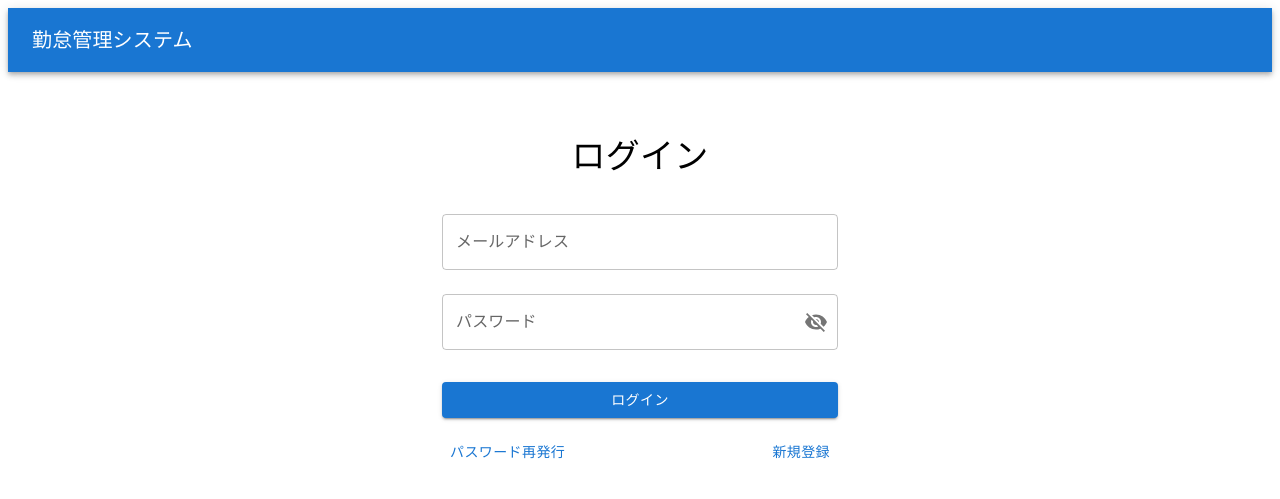
Test: ログインコンポーネントのテスト › ログイン時にネットワークエラーが発生した場合、エラーメッセージが表示される
Type "user@example.com" into the field labelled "メールアドレス" at {"x": 640, "y": 242}, box [442,214,838,270]
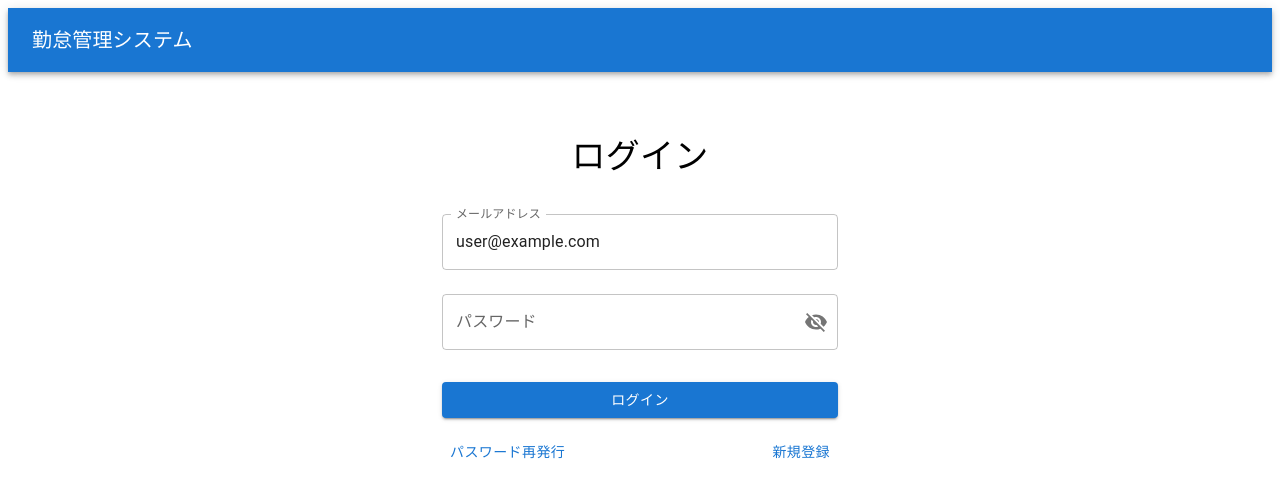
Type "password" into the password field labelled "パスワード" at {"x": 615, "y": 322}, box [442,294,788,350]
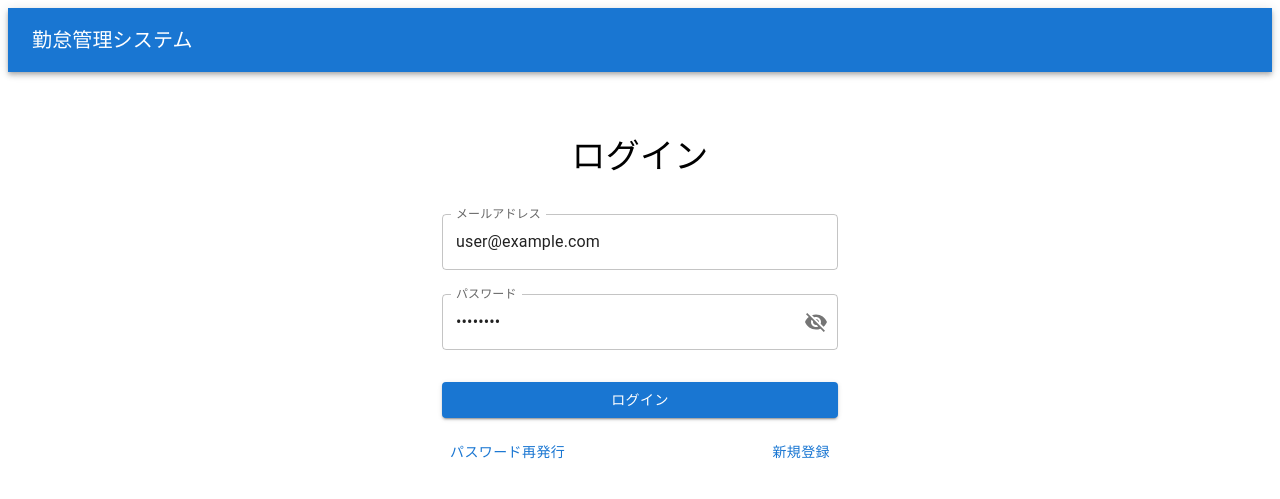
Click the button "ログイン" at {"x": 640, "y": 400}, box [442,382,838,418]
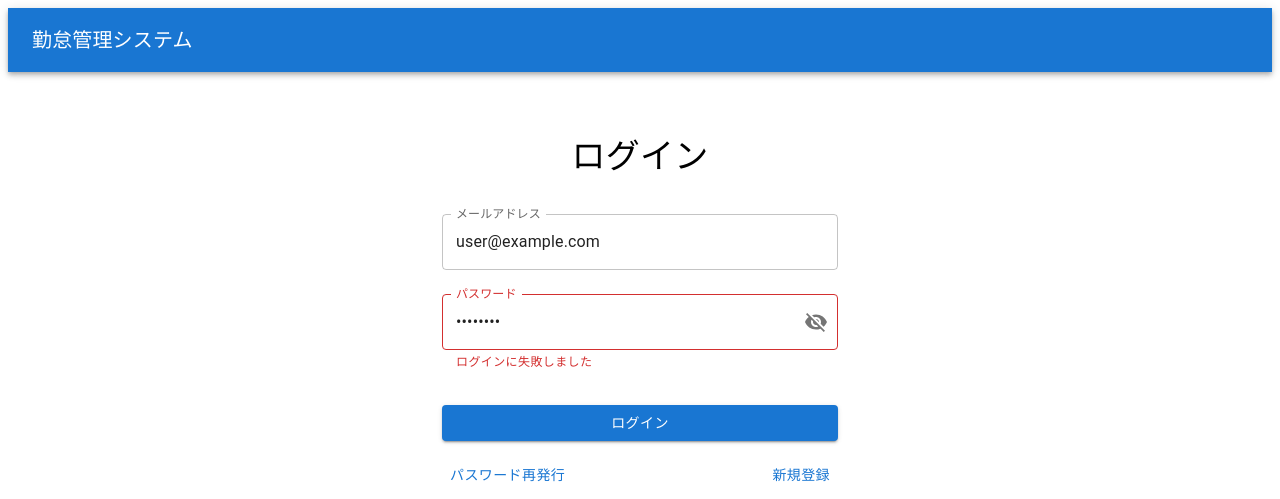
Now the text "ログインに失敗しました" is shown, box [456,355,592,369]
